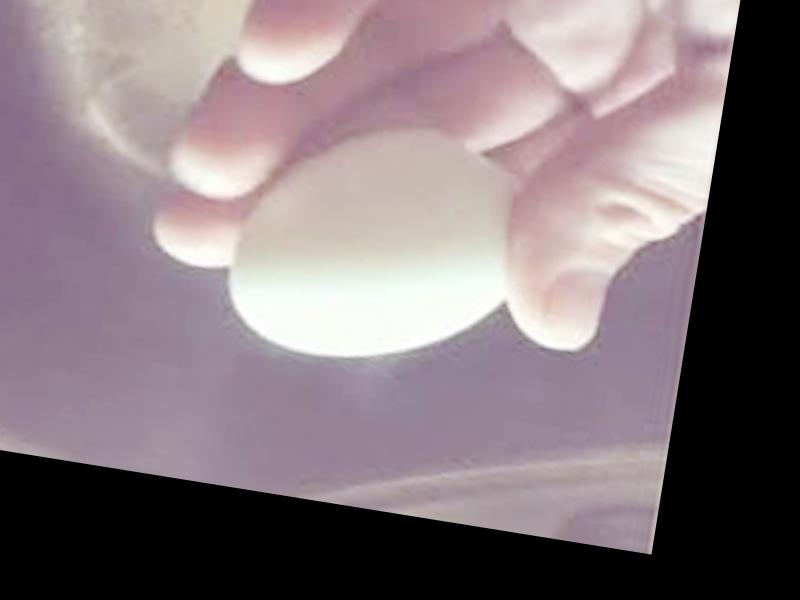Eggs: (218, 106, 531, 383)
